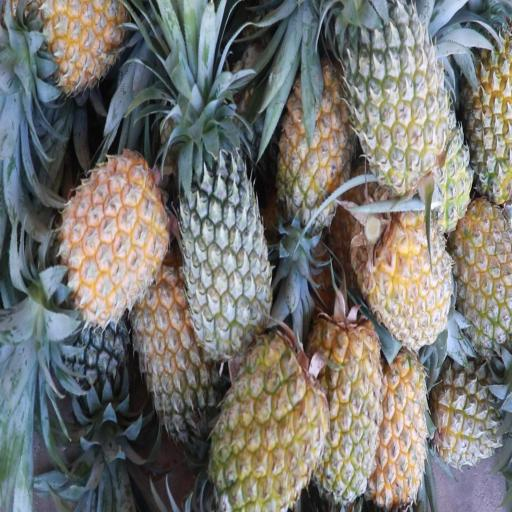------------------------------: (350, 8, 451, 183), (137, 270, 218, 430), (454, 198, 510, 348), (466, 33, 512, 195), (435, 362, 505, 466)
Pineapple - v8 v1: (214, 327, 322, 508), (64, 148, 166, 315), (360, 192, 451, 344), (314, 320, 382, 499), (279, 57, 354, 218), (38, 0, 128, 90), (376, 348, 427, 503)
